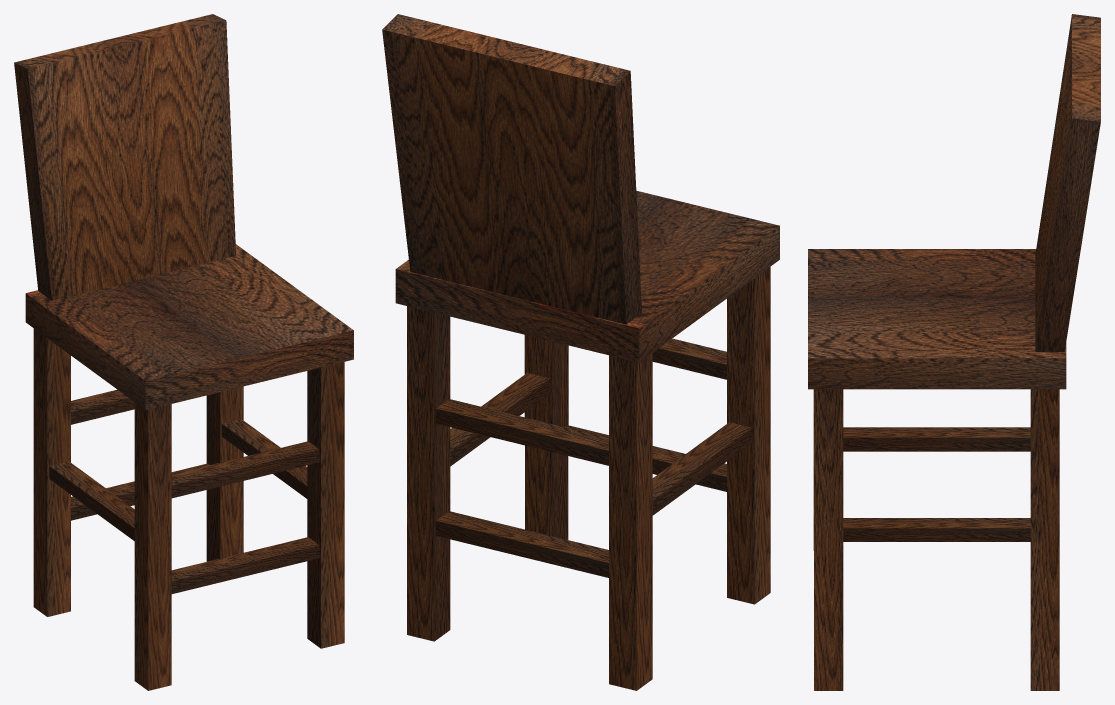
The model's file is mm9_deco_barstool1.glb.
3 views of the same model, side by side, from view 1: azimuth 30°, elevation 25°; view 2: azimuth 150°, elevation 25°; view 3: azimuth 270°, elevation 25° (orthographic). The views are drawn at different scales.
Parts seen in each view (by area): view 1: Barstool1; view 2: Barstool1; view 3: Barstool1.
Boxes of the visible parts, <box> form: Barstool1: <box>14,14,353,690</box>; Barstool1: <box>382,14,779,690</box>; Barstool1: <box>808,14,1100,690</box>.
Size of the model in its own units: 0.6091 by 1.49 by 0.6912.
2 materials, 2 textured.
